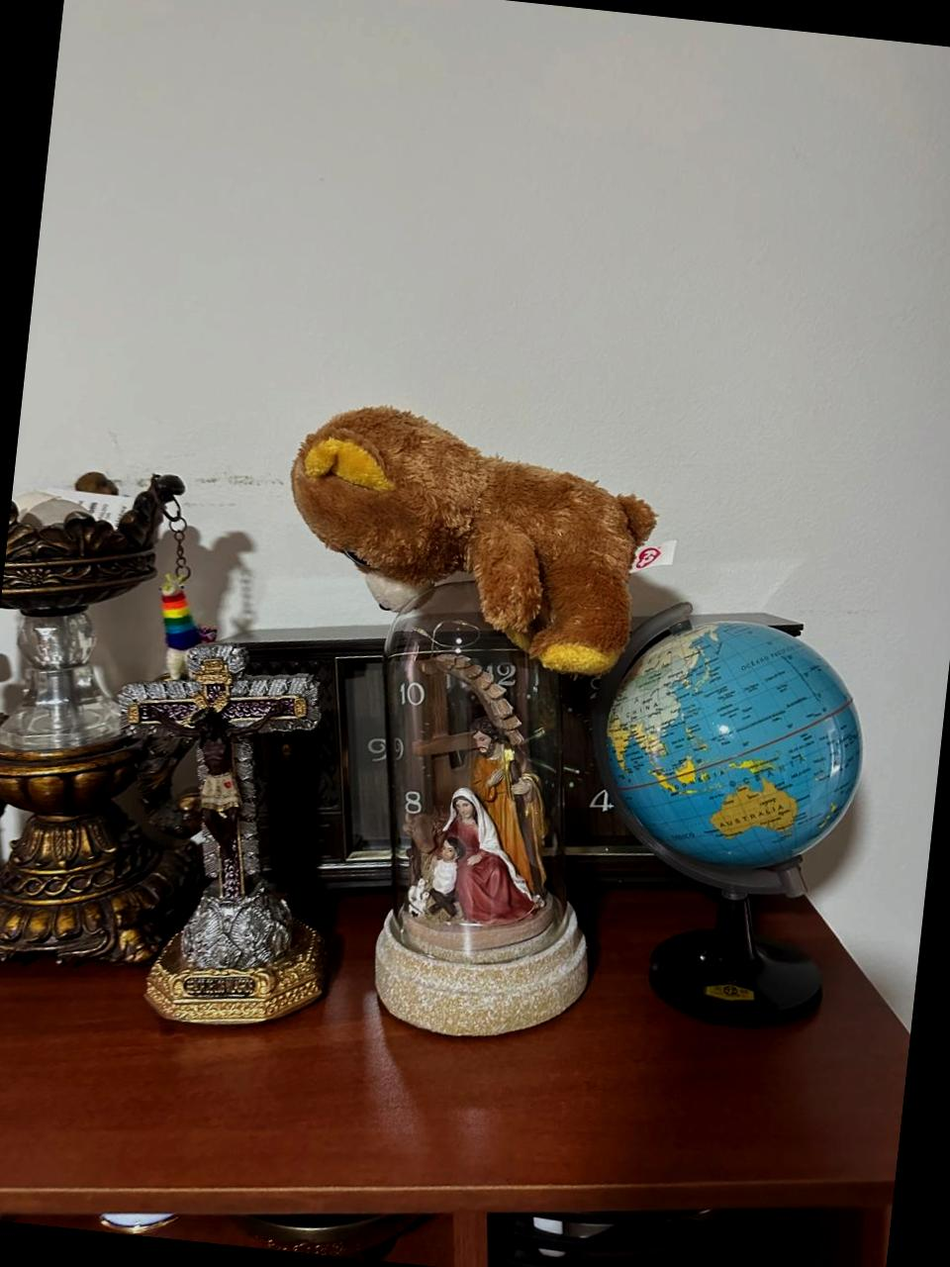peluche_sebastian: (273, 386, 678, 684)
